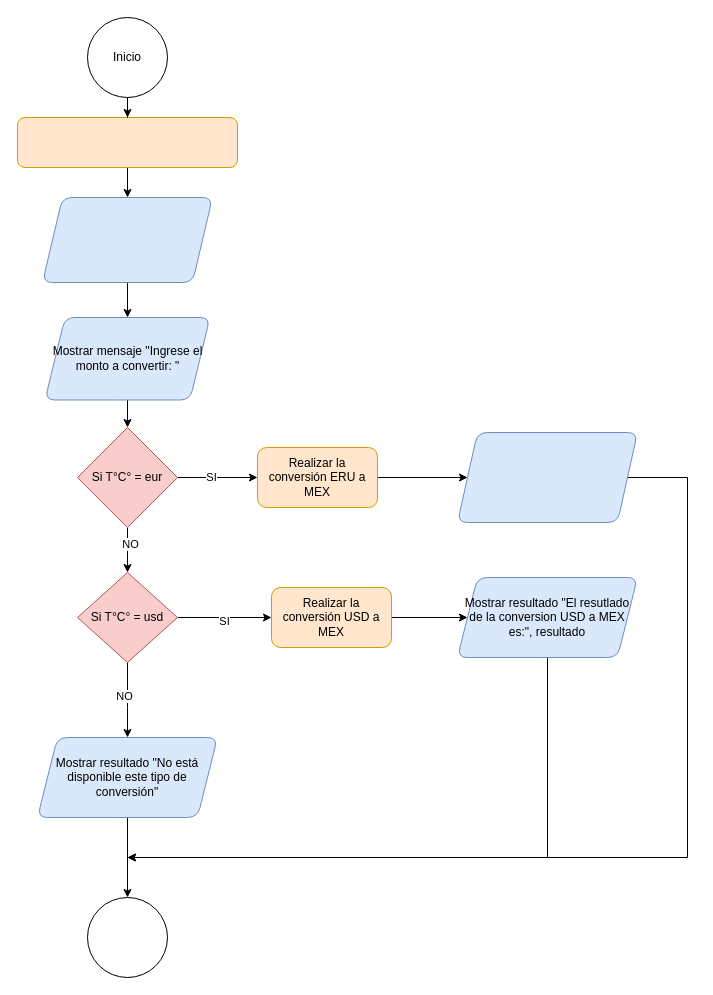
This 713x995 diagram has some shape labels left out. Here are the shapes that lost their labels. From the top down, the centre of each, then its label:
pixel 127 142: Definir T°C° EUR a MEX = 23.70 Definir T°C° USDa MEX = 29.75
pixel 127 239: Mostrar mensaje "Ingrese la modena origen para la conversión: "
pixel 547 477: Mostrar resultado "El resutlado de la conversion EUR a MEX es:", resultado
pixel 127 937: Fin
